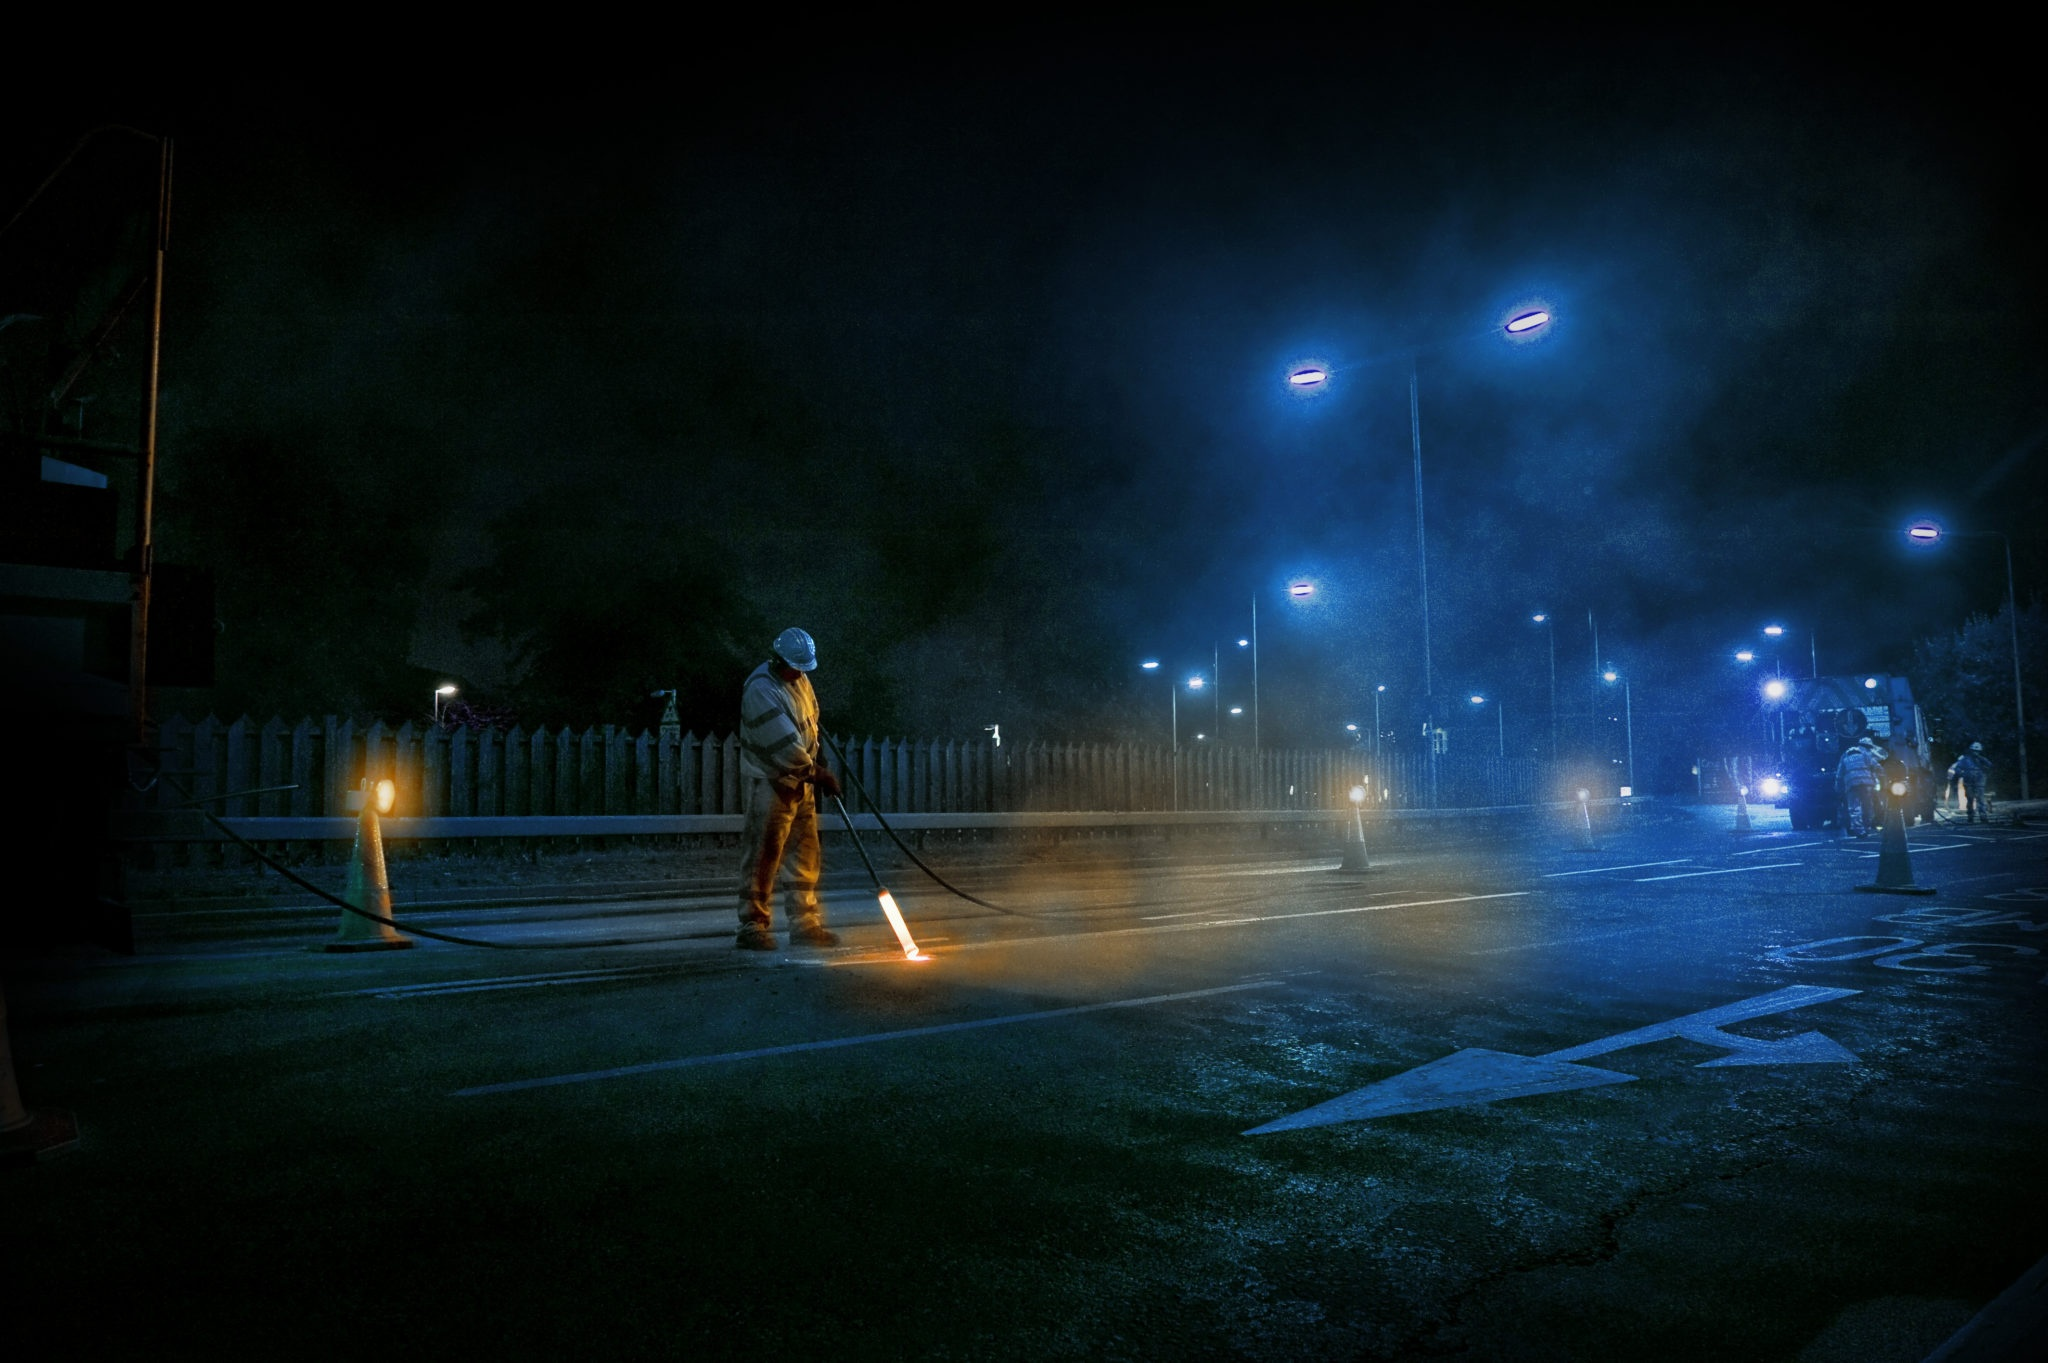blue: (766, 625, 818, 681)
